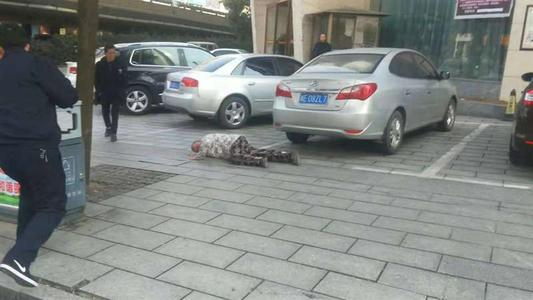fall: (183, 128, 302, 175)
